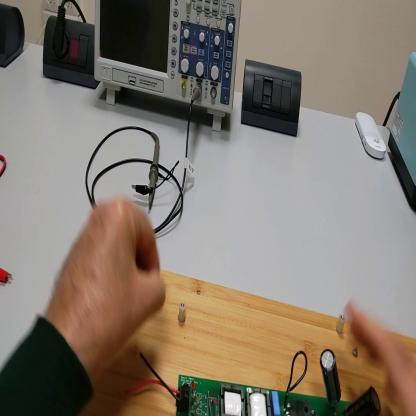hand: (42, 195, 167, 368), (348, 301, 416, 415)
high voltage board: (130, 349, 381, 415)
oscilloscope: (95, 2, 244, 136)
oscilloscope probe tip: (149, 131, 162, 215)
socket: (43, 15, 96, 91), (2, 3, 27, 68)
welder station: (388, 54, 416, 210)
working area: (77, 269, 416, 414)
